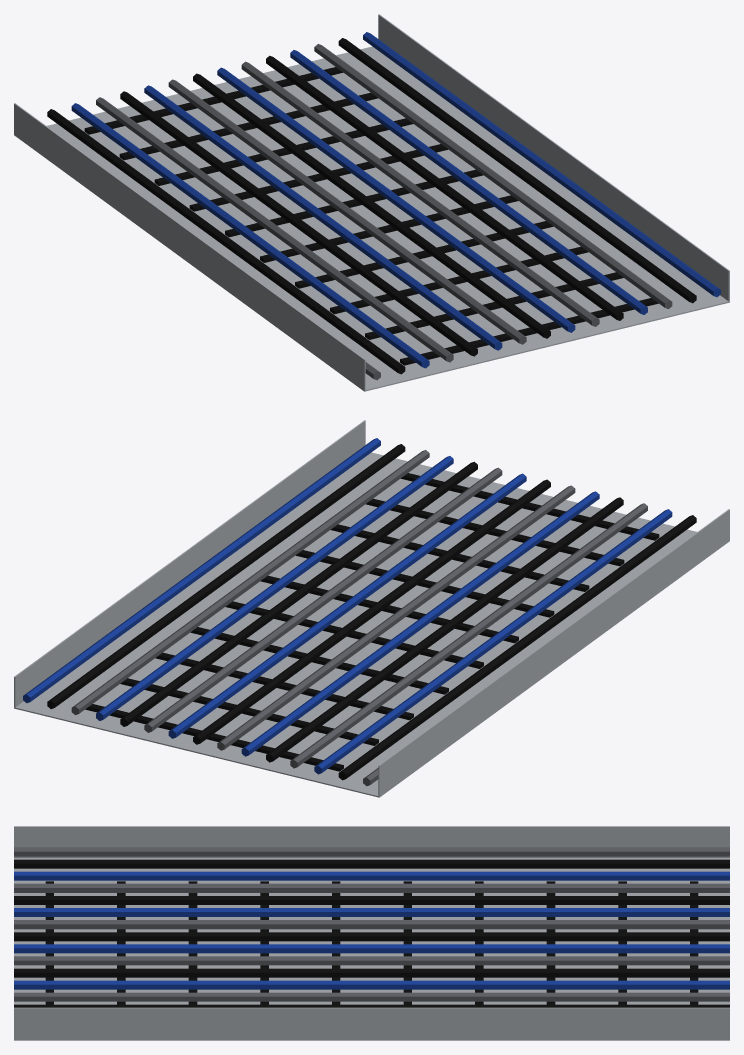
Rendered from services.tray.run_600.glb.
3 renders of one model, top to bottom at view 1: azimuth 30°, elevation 25°; view 2: azimuth 150°, elevation 25°; view 3: azimuth 270°, elevation 25°, orthographic. The views are drawn at different scales.
Parts seen in each view (by area): view 1: main__steel_galvanised, main__plastic_black, main__plastic_blue, main__plastic_grey; view 2: main__steel_galvanised, main__plastic_black, main__plastic_blue, main__plastic_grey; view 3: main__steel_galvanised, main__plastic_grey, main__plastic_black, main__plastic_blue.
Part boxes in pixels (left/top/right/bottom): main__steel_galvanised: left=14, top=14, right=729, bottom=391; main__plastic_black: left=47, top=38, right=696, bottom=374; main__plastic_blue: left=71, top=32, right=720, bottom=368; main__plastic_grey: left=96, top=44, right=672, bottom=380; main__steel_galvanised: left=14, top=420, right=729, bottom=797; main__plastic_black: left=47, top=444, right=696, bottom=780; main__plastic_blue: left=23, top=438, right=672, bottom=774; main__plastic_grey: left=71, top=450, right=647, bottom=786; main__steel_galvanised: left=14, top=826, right=729, bottom=1040; main__plastic_grey: left=14, top=847, right=729, bottom=1001; main__plastic_black: left=14, top=859, right=729, bottom=1007; main__plastic_blue: left=14, top=871, right=729, bottom=989.
Size of the model in its own units: 0.602 by 0.0565 by 1.
